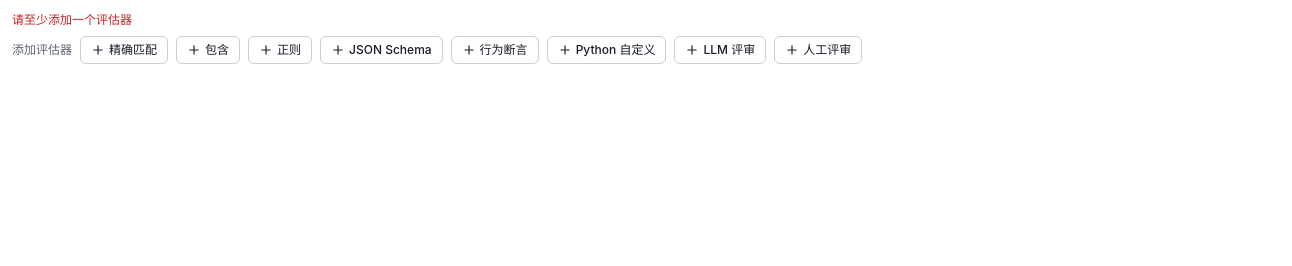
EvaluatorEditor：json_schema / trace / python / llm_judge samples / human › python：入口格式校验
Click the button with test id "add-evaluator-python" at (606, 50), box [547,36,666,64]
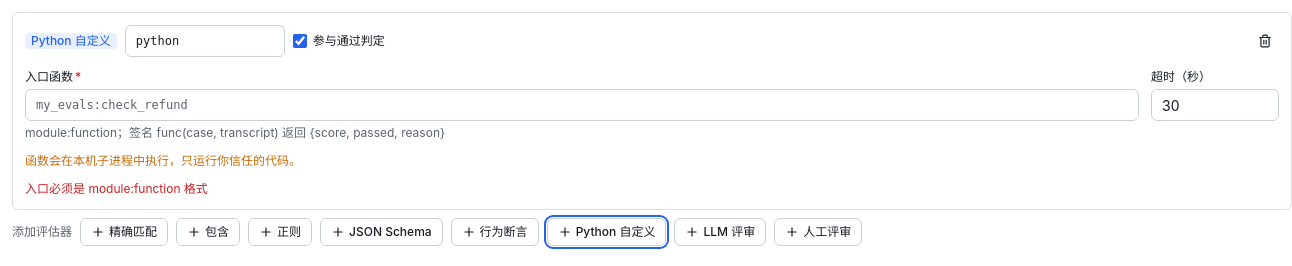
Expected: the text "入口必须是 module:function 格式" is shown, [25,181,208,196]
Type "my_evals:check" into the field named "入口函数" at (582, 105), box [25,89,1139,121]
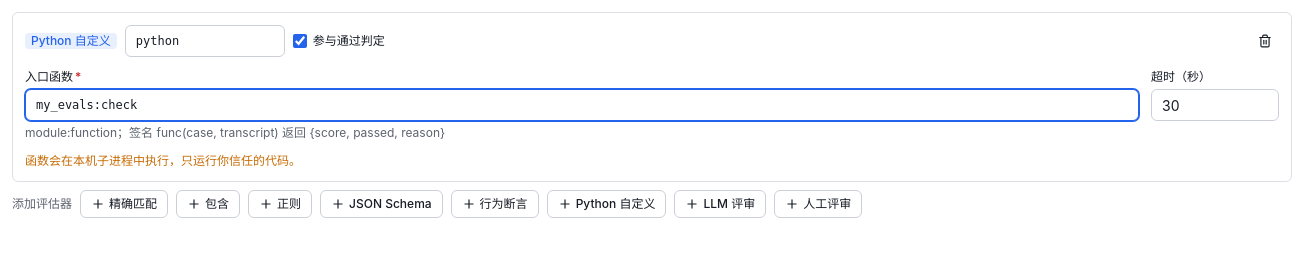
Expected: the text "module:function 格式" is gone
